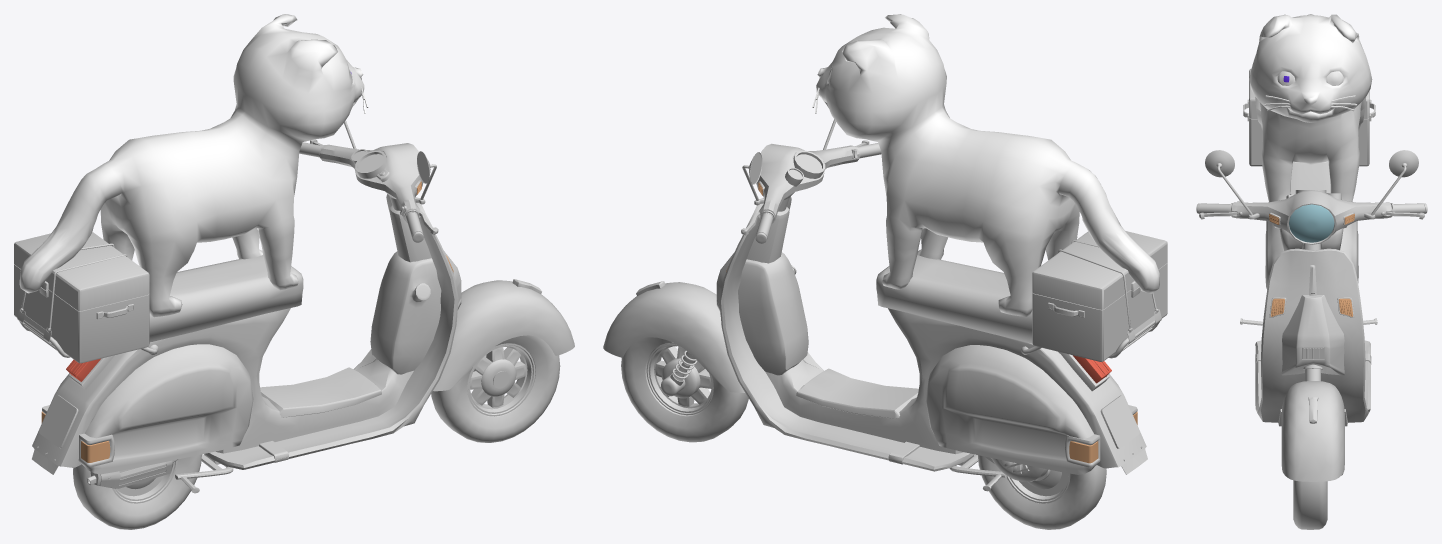
The model's file is cat_vesp.fbx.
The picture shows the model from 3 angles, left to right: view 1: azimuth 30°, elevation 25°; view 2: azimuth 150°, elevation 25°; view 3: azimuth 270°, elevation 25°; orthographic projection. The views are drawn at different scales.
Visible parts, largest first — view 1: Cat; view 2: Cat; view 3: Cat.
Part boxes in pixels (<box>): Cat: <box>14,14,574,529</box>; Cat: <box>603,14,1167,529</box>; Cat: <box>1196,14,1427,529</box>.
Size of the model in its own units: 222 by 178 by 89.22.
